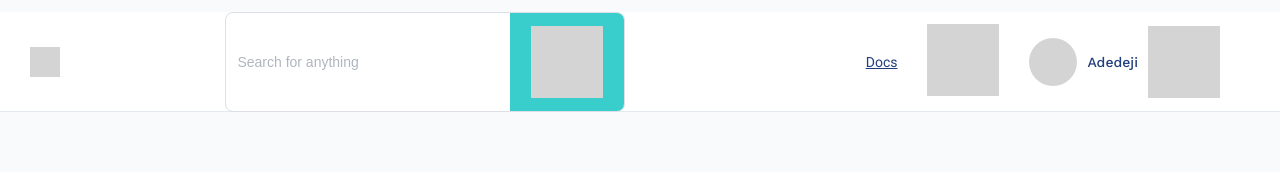
Scenario: DashboardNavbar › clear-search button appears when search has value and clears input
Type "clear me" into the field with placeholder "Search for anything" at (368, 62), box [226,42,510,81]
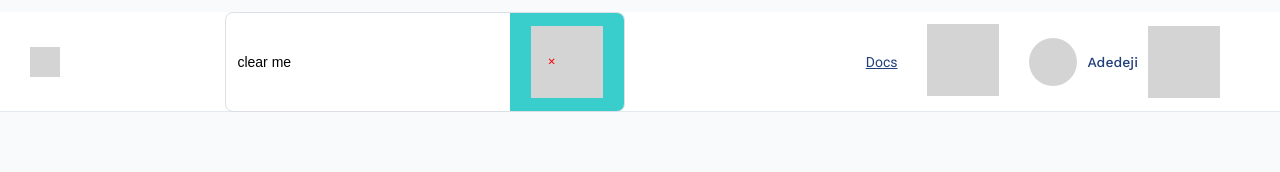
Expected: the button "✕" is shown
Click the button "✕" at (552, 62), box [544,54,560,70]
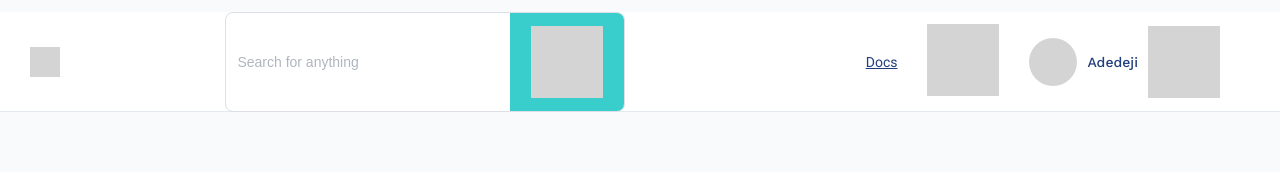
Expected: the field with placeholder "Search for anything" is empty, [226,42,510,81]
